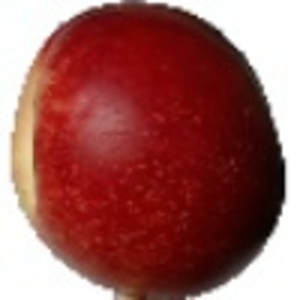nectarina: (7, 1, 286, 300)
